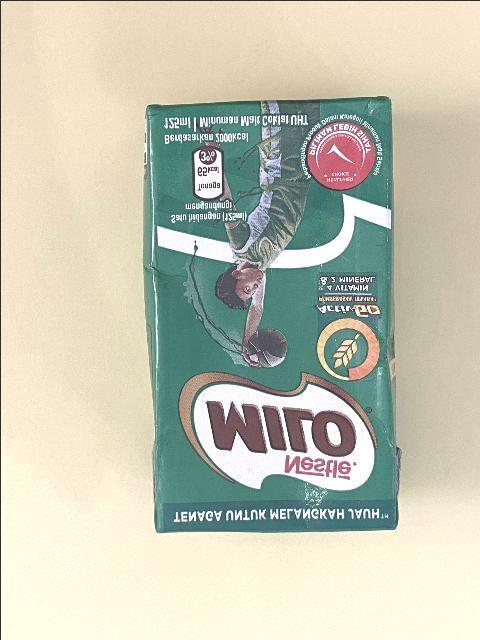drinkpack: (139, 92, 403, 538)
